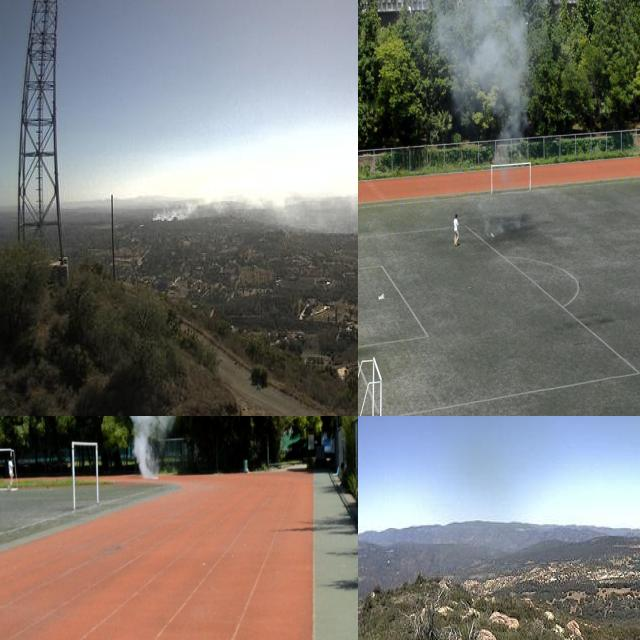smoke: (428, 0, 529, 171), (150, 166, 358, 246), (128, 416, 175, 481), (480, 211, 521, 240)
